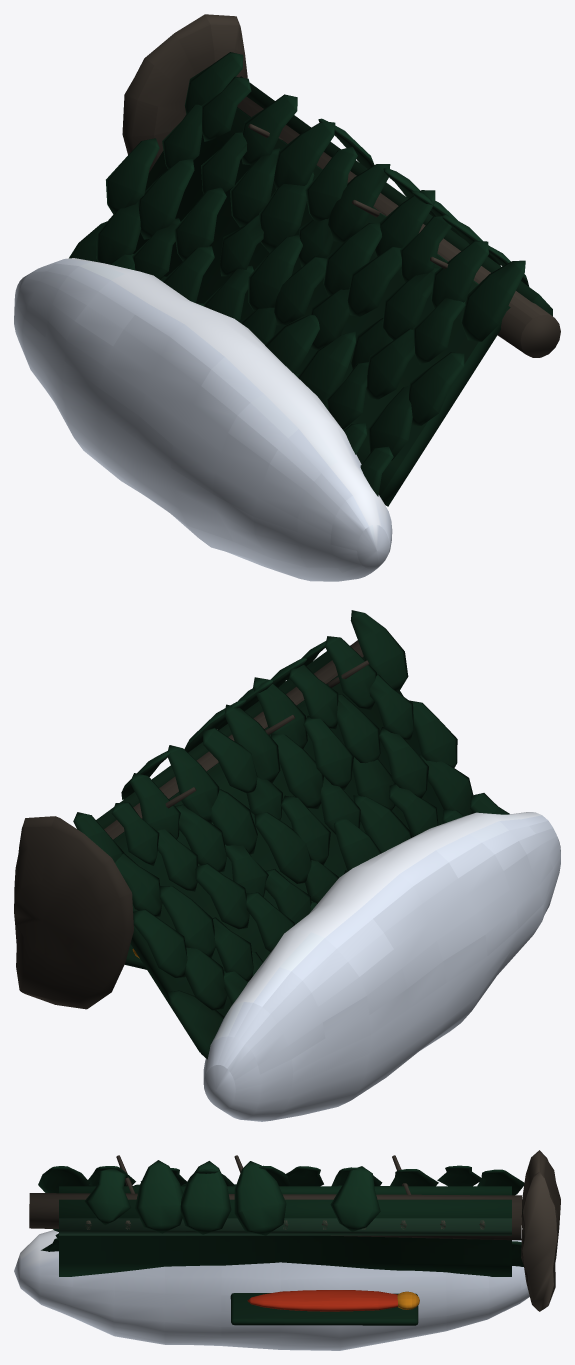
Rendered from FallenLog_section.glb.
The picture shows the model from 3 angles, top to bottom: view 1: azimuth 30°, elevation 25°; view 2: azimuth 150°, elevation 25°; view 3: azimuth 270°, elevation 25°; orthographic projection. The views are drawn at different scales.
Visible parts, largest first — view 1: sec_thatch-1, sec_snowbank, sec_roofmat-1, sec_rootplate, sec_log, sec_roofmat1, sec_thatch1; view 2: sec_thatch-1, sec_snowbank, sec_rootplate, sec_roofmat-1, sec_thatch1, sec_log, sec_roofmat1, sec_stubs; view 3: sec_snowbank, sec_roofmat-1, sec_thatch1, sec_roofmat1, sec_thatch-1, sec_rootplate, sec_log, sec_bed, sec_bag, sec_stubs, sec_pillow, sec_ribs.
Boxes of the visible parts, x1,y1,x2,y2 form: sec_thatch-1: [69, 52, 525, 496]; sec_snowbank: [14, 258, 392, 581]; sec_roofmat-1: [133, 107, 510, 506]; sec_rootplate: [122, 14, 247, 172]; sec_log: [237, 96, 560, 357]; sec_roofmat1: [240, 76, 552, 316]; sec_thatch1: [318, 118, 529, 286]; sec_thatch-1: [73, 610, 509, 1059]; sec_snowbank: [203, 812, 560, 1121]; sec_rootplate: [14, 816, 133, 1009]; sec_roofmat-1: [113, 656, 443, 1052]; sec_thatch1: [121, 641, 325, 799]; sec_log: [104, 640, 363, 839]; sec_roofmat1: [96, 651, 331, 828]; sec_stubs: [165, 660, 369, 808]; sec_snowbank: [14, 1230, 529, 1350]; sec_roofmat-1: [59, 1186, 511, 1276]; sec_thatch1: [84, 1160, 380, 1235]; sec_roofmat1: [59, 1199, 511, 1235]; sec_thatch-1: [38, 1165, 524, 1266]; sec_rootplate: [521, 1150, 560, 1311]; sec_log: [29, 1193, 521, 1240]; sec_bed: [230, 1293, 418, 1325]; sec_bag: [247, 1290, 397, 1311]; sec_stubs: [116, 1155, 411, 1194]; sec_pillow: [397, 1291, 419, 1309]; sec_ribs: [85, 1220, 485, 1229].
Size of the model in its own units: 2.57 by 2.91 by 5.56.
